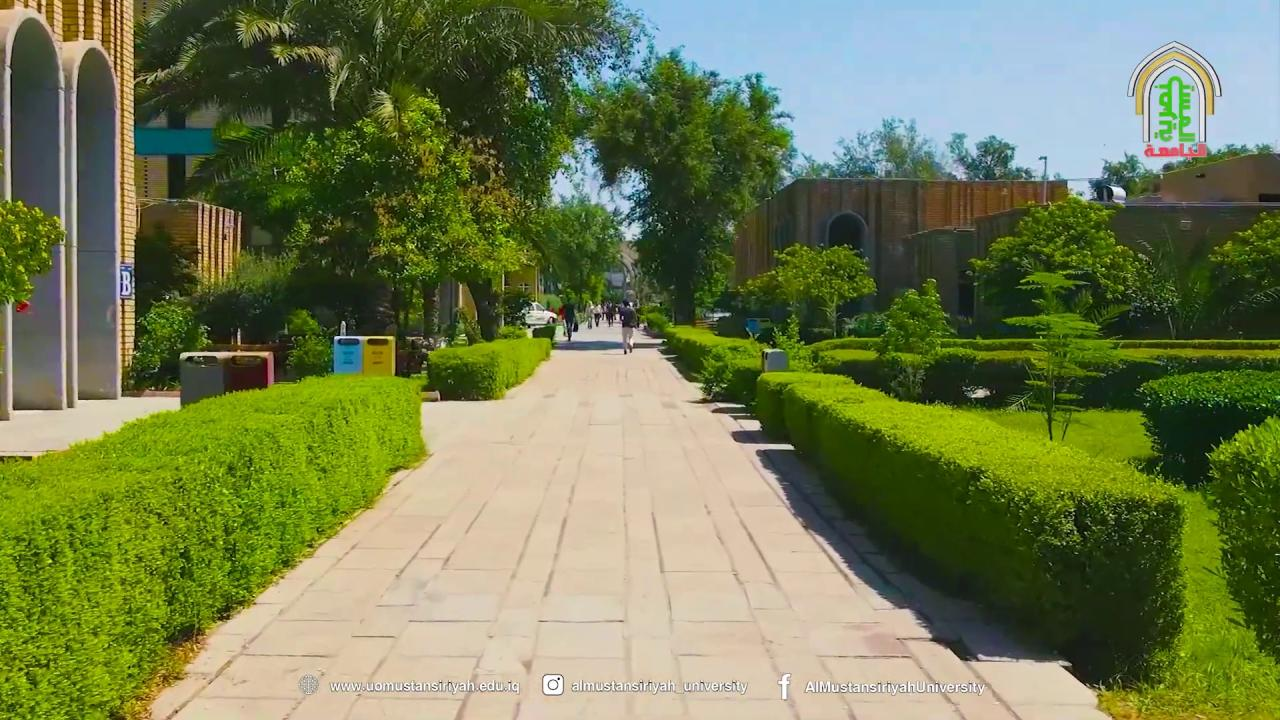fountain: (753, 359, 1195, 690), (960, 381, 996, 400)
person: (619, 299, 637, 354)
tree: (709, 172, 1278, 695), (132, 0, 639, 361), (576, 47, 795, 326), (964, 192, 1153, 334), (1000, 269, 1126, 441), (1202, 414, 1278, 659), (1134, 368, 1278, 486), (738, 240, 878, 343), (534, 198, 624, 314), (872, 277, 953, 400), (1206, 209, 1279, 336), (127, 295, 212, 393), (0, 196, 66, 311), (831, 115, 941, 179), (945, 131, 1016, 180), (1098, 150, 1152, 197)
